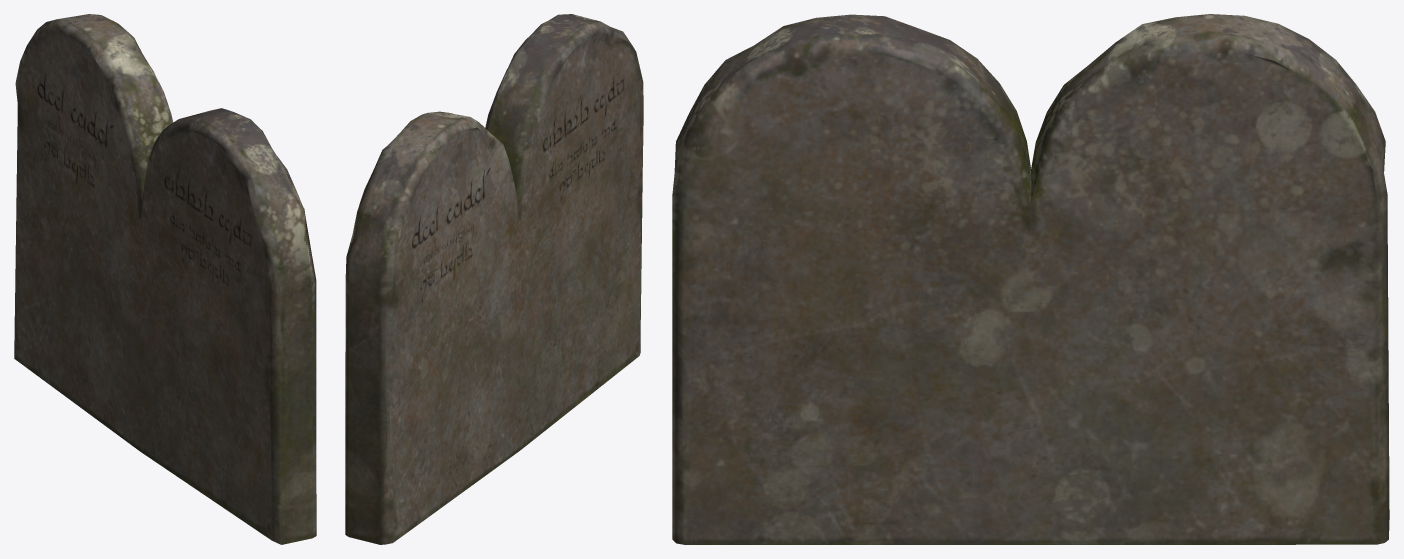
File: SM_TombsC.fbx
3 renders of one model, left to right at view 1: azimuth 30°, elevation 25°; view 2: azimuth 150°, elevation 25°; view 3: azimuth 270°, elevation 25°, orthographic. The views are drawn at different scales.
Parts seen in each view (by area): view 1: SM_TombsC_LOD0; view 2: SM_TombsC_LOD0; view 3: SM_TombsC_LOD0.
Boxes of the visible parts, box(x1,y1,x2,y2) form: SM_TombsC_LOD0: box(14, 14, 316, 544); SM_TombsC_LOD0: box(345, 14, 643, 544); SM_TombsC_LOD0: box(672, 14, 1389, 544).
Size of the model in its own units: 10.2 by 94.65 by 73.77.
1 material, 1 textured.
